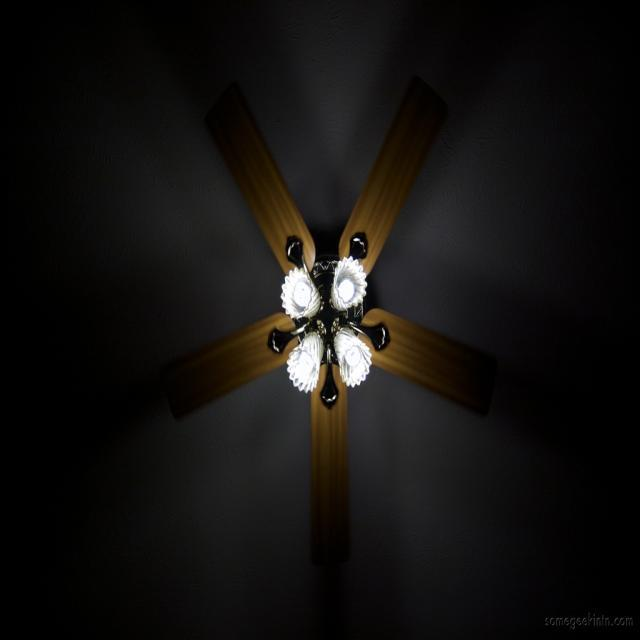bulb_on: (292, 280, 314, 316), (298, 354, 314, 382), (344, 348, 364, 366), (336, 282, 358, 298)
fan_off: (160, 82, 495, 576)
